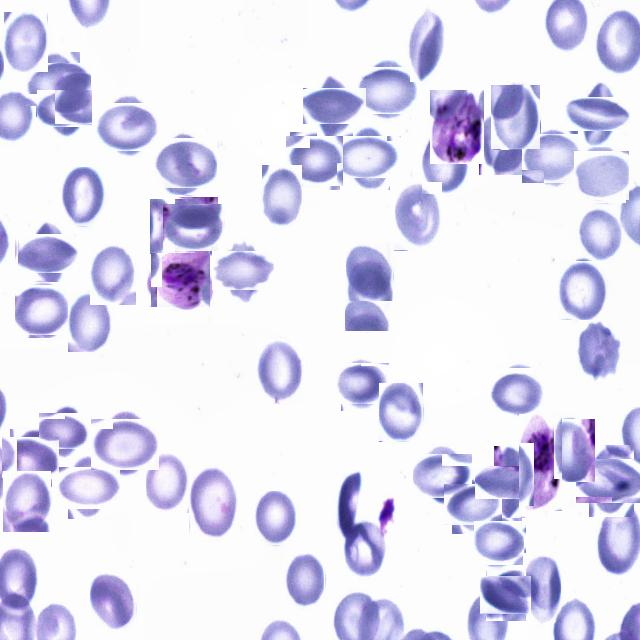difficult: (149, 246, 212, 309)
red blood cell: (96, 414, 156, 474), (189, 466, 235, 540), (583, 452, 640, 511), (394, 182, 442, 251), (156, 134, 213, 192), (558, 259, 611, 321), (491, 85, 541, 150), (345, 265, 392, 332), (525, 131, 581, 187), (166, 200, 222, 256), (256, 338, 303, 404), (100, 99, 156, 154), (30, 57, 86, 111), (547, 419, 595, 482), (3, 471, 51, 532), (360, 63, 414, 117), (342, 130, 396, 184), (288, 134, 342, 188), (479, 112, 525, 175), (422, 131, 468, 194), (346, 242, 394, 302), (145, 452, 191, 514), (90, 243, 136, 305), (62, 462, 116, 514), (16, 284, 70, 336), (576, 148, 628, 202), (90, 573, 137, 632), (576, 321, 622, 381), (484, 456, 537, 508), (340, 521, 386, 580), (416, 450, 468, 502), (22, 228, 74, 280), (522, 553, 560, 623), (379, 383, 424, 442), (62, 167, 106, 227), (4, 12, 48, 72), (68, 292, 112, 352), (410, 6, 444, 82), (150, 199, 196, 254), (492, 366, 542, 416), (448, 480, 498, 530), (574, 88, 624, 138), (6, 433, 56, 483), (218, 246, 268, 296), (310, 81, 360, 131), (576, 208, 623, 261), (262, 165, 302, 226), (254, 491, 297, 546), (338, 360, 386, 408), (476, 518, 524, 566), (284, 553, 325, 609), (42, 85, 88, 132), (483, 573, 528, 618), (42, 408, 86, 452)
trophozoite: (519, 414, 563, 512), (430, 90, 484, 164)
